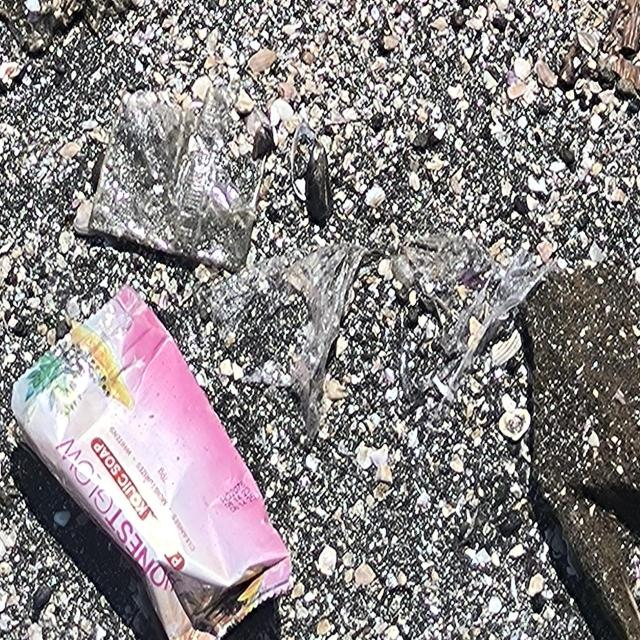litter: (10, 282, 294, 640)
